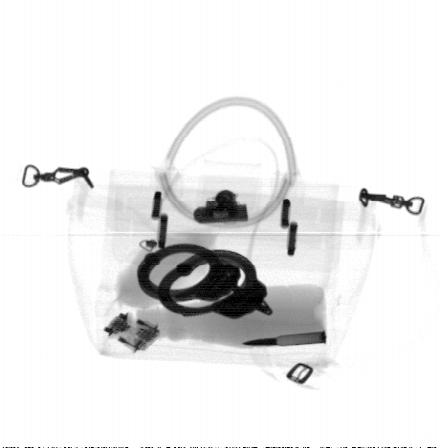Bullet: (240, 331, 328, 346)
HandCuffs: (135, 241, 274, 319)
